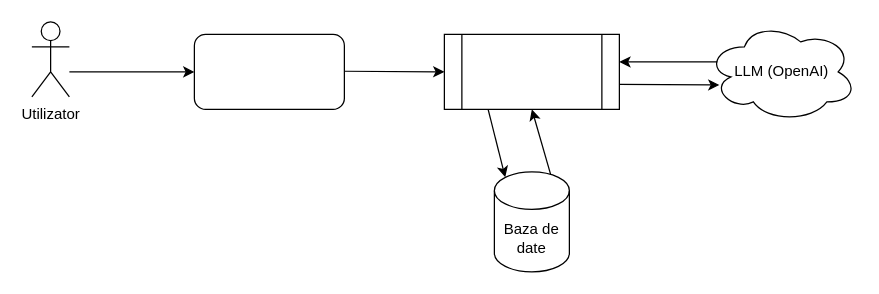
The diagram is 879 pixels wide and 294 high, and some of its shapes have lost their labels. Here are the shapes that lost their labels. From the top down, the centre of each, then its label:
(x=268, y=71): Interfata Web (Streamlit)
(x=531, y=71): Logic Layer (Python/LangChain)
